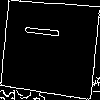I: (24, 22, 69, 42)
